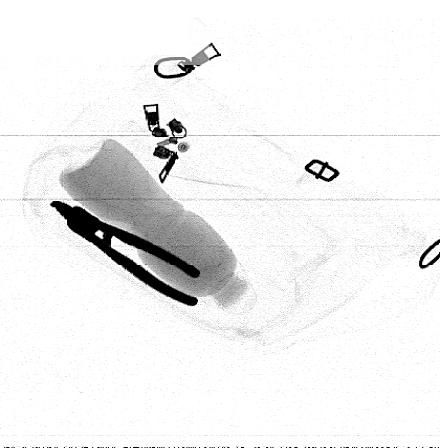Pliers: (48, 200, 201, 306)
